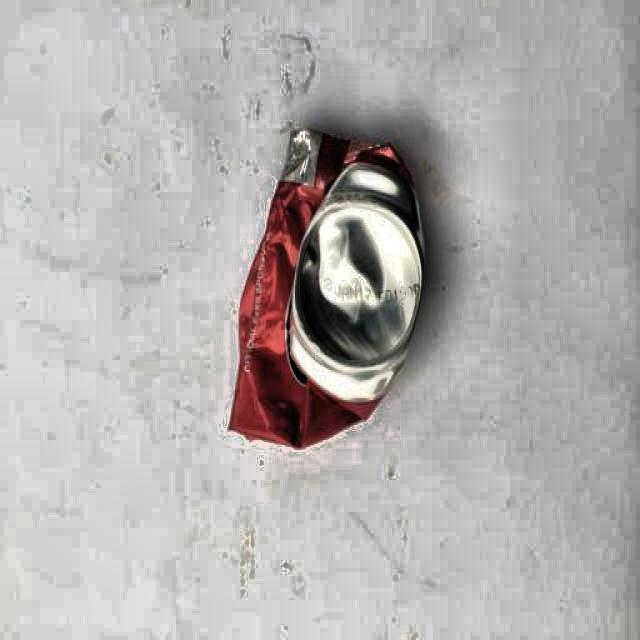metal: (227, 129, 425, 451)
